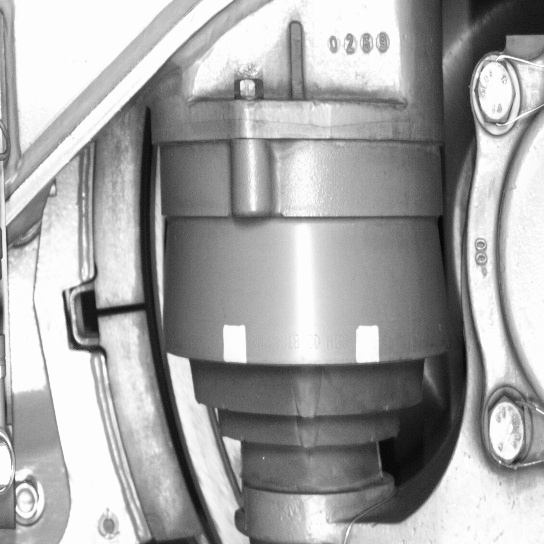KnifeSwitch: (93, 141, 223, 540)
